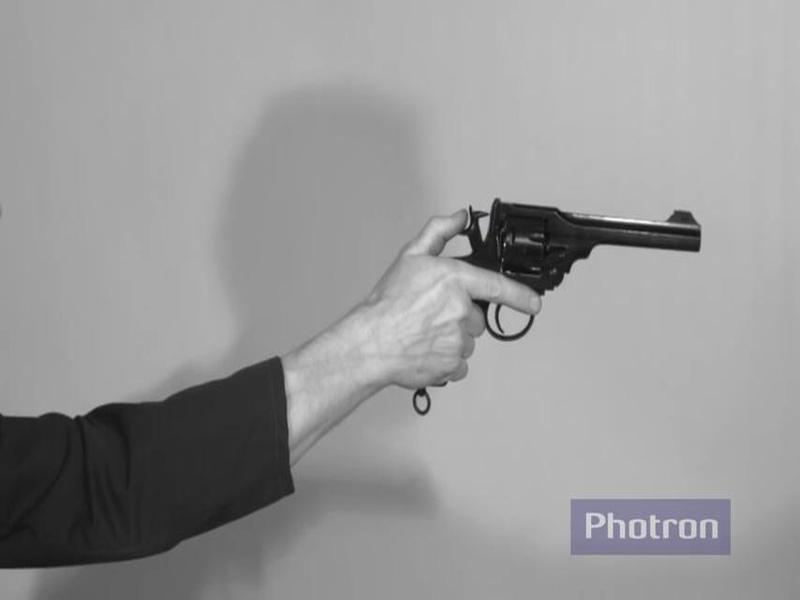Revolver: (400, 159, 725, 414)
